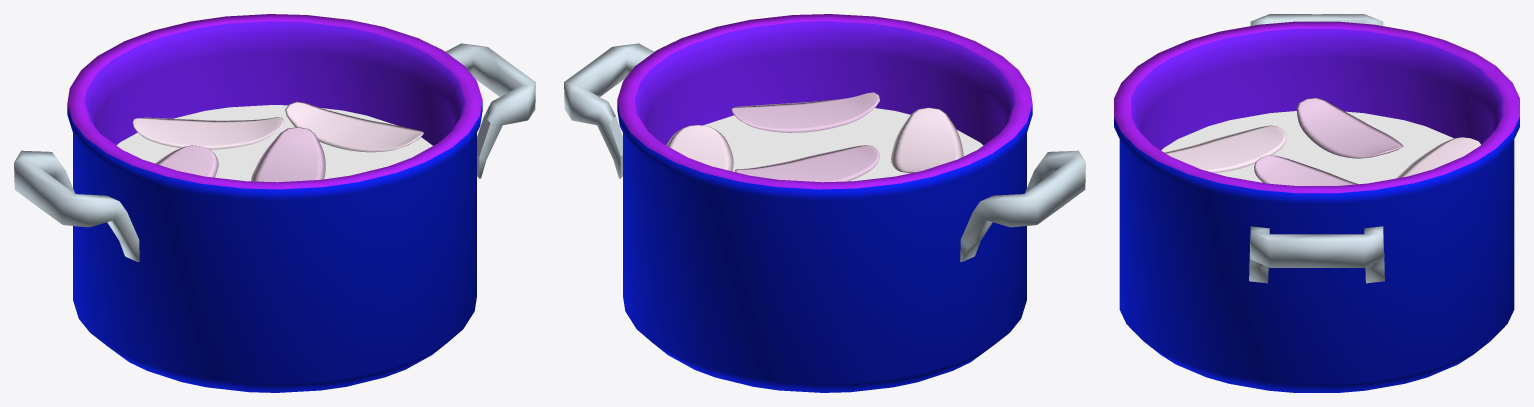
The model's file is CookedPinkPetals.fbx.
The picture shows the model from 3 angles, left to right: view 1: azimuth 30°, elevation 25°; view 2: azimuth 150°, elevation 25°; view 3: azimuth 270°, elevation 25°; orthographic projection.
Parts seen in each view (by area): view 1: Body.006, Handles.004, Water.002, Petel.040, Petel.041, Petel.039, Petel.036; view 2: Body.006, Handles.004, Water.002, Petel.038, Petel.037, Petel.039, Petel.040; view 3: Body.006, Water.002, Handles.004, Petel.036, Petel.037, Petel.039, Petel.041.
Boxes of the visible parts, bbox=[...] form: Body.006: bbox=[67, 14, 482, 392]; Handles.004: bbox=[14, 43, 535, 261]; Water.002: bbox=[116, 105, 432, 181]; Petel.040: bbox=[285, 101, 423, 152]; Petel.041: bbox=[132, 117, 284, 149]; Petel.039: bbox=[251, 127, 325, 182]; Petel.036: bbox=[155, 145, 218, 177]; Body.006: bbox=[617, 14, 1032, 392]; Handles.004: bbox=[564, 43, 1085, 261]; Water.002: bbox=[703, 108, 983, 181]; Petel.038: bbox=[731, 92, 879, 132]; Petel.037: bbox=[891, 107, 963, 173]; Petel.039: bbox=[734, 145, 879, 182]; Petel.040: bbox=[666, 125, 733, 171]; Body.006: bbox=[1114, 21, 1519, 392]; Water.002: bbox=[1161, 111, 1453, 184]; Handles.004: bbox=[1249, 14, 1384, 283]; Petel.036: bbox=[1296, 97, 1403, 158]; Petel.037: bbox=[1164, 125, 1286, 172]; Petel.039: bbox=[1254, 155, 1358, 185]; Petel.041: bbox=[1396, 137, 1480, 178].
Size of the model in its own units: 83.38 by 35.99 by 62.94.
